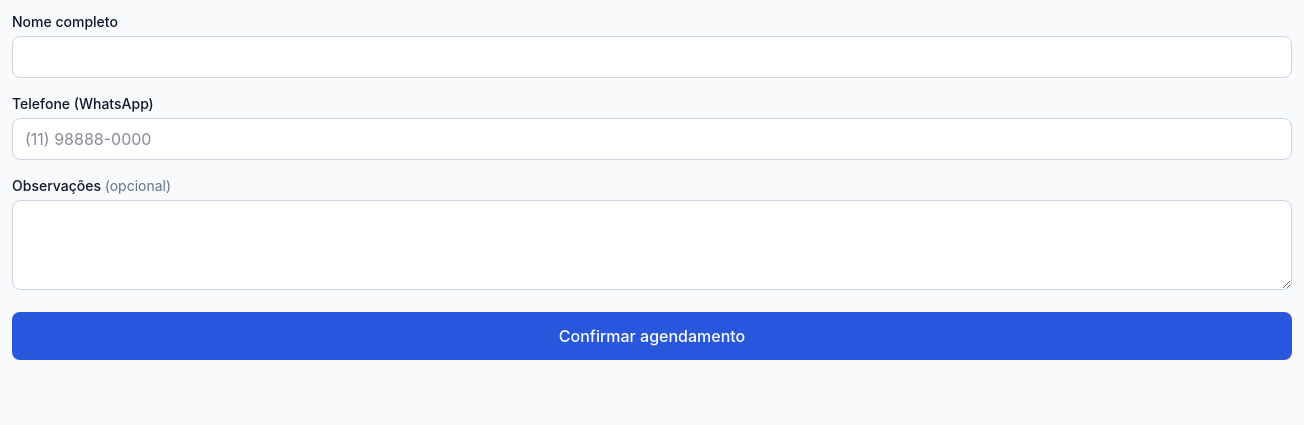
Test: BookingForm › mostra os erros e não envia com campos vazios
The image size is (1304, 425).
Click the button "Confirmar agendamento". click: (652,336)
box: [12,312,1292,360]
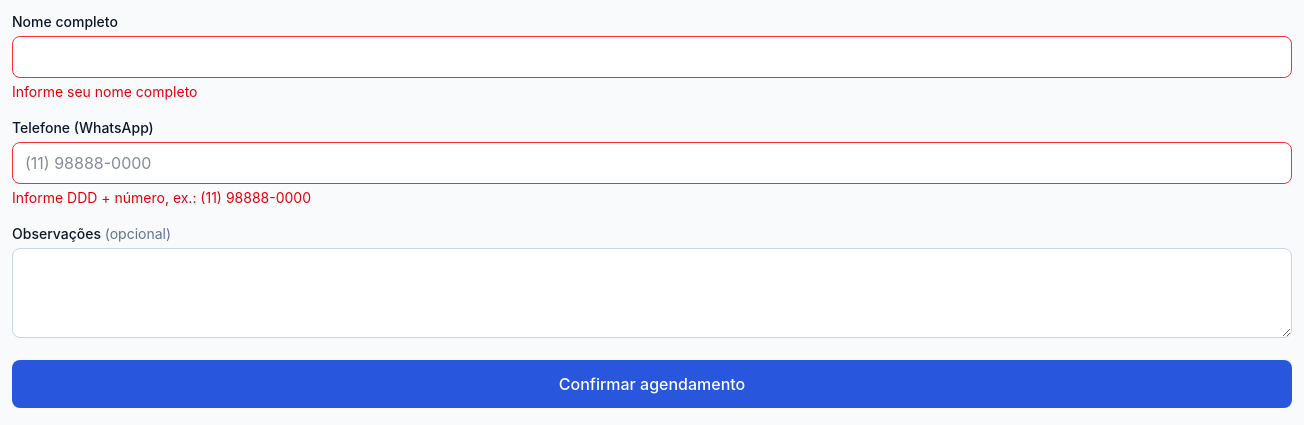
Expected: the text "Informe seu nome completo" is shown, [12,83,198,100]
